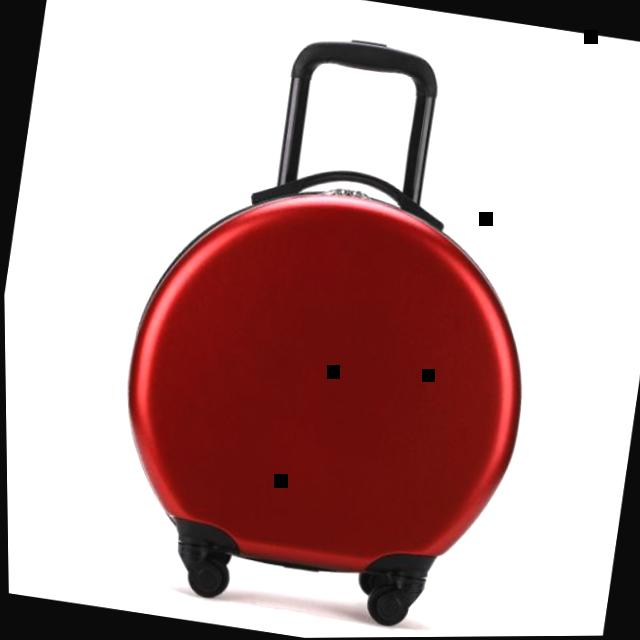luggage: (88, 132, 563, 639)
